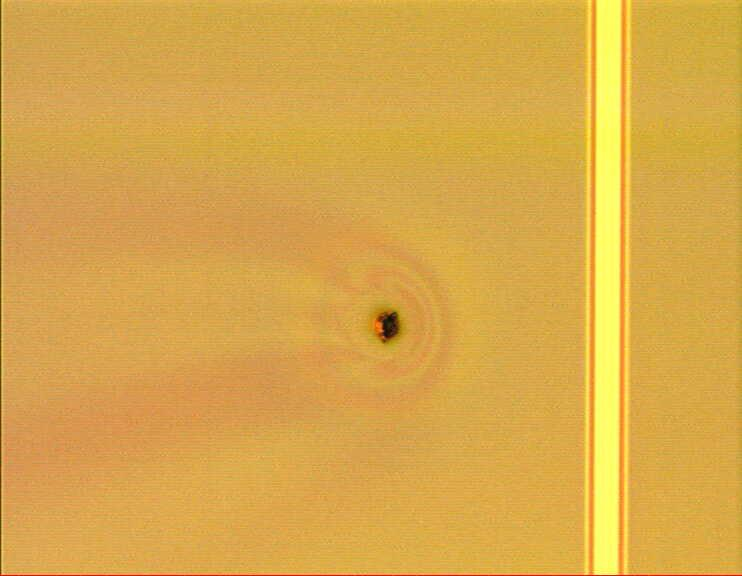PIQ PARTICLE: (369, 306, 409, 346)
